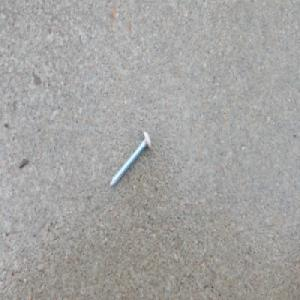Nail: (109, 130, 152, 190)
